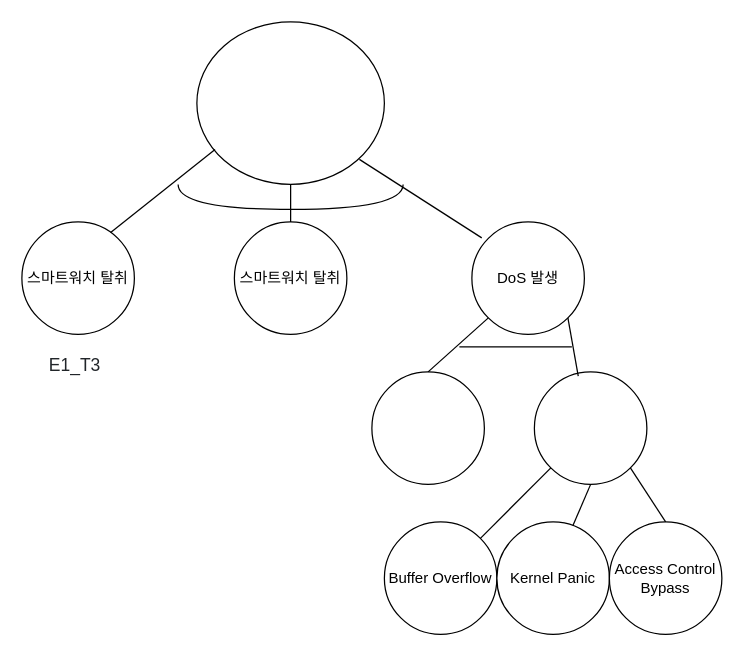
Image size: 744x656. Some labels were removed from this diagram. The shapes that lost their labels are listed below. From the top down, each one's centre as x and y in pixels, then its label:
At (x=290, y=102): "BLE Device와 Application 간 연결 불능".
At (x=427, y=427): "통신 범위 내로 접근".
At (x=590, y=427): "악의적인 Bluetooth 요청".
